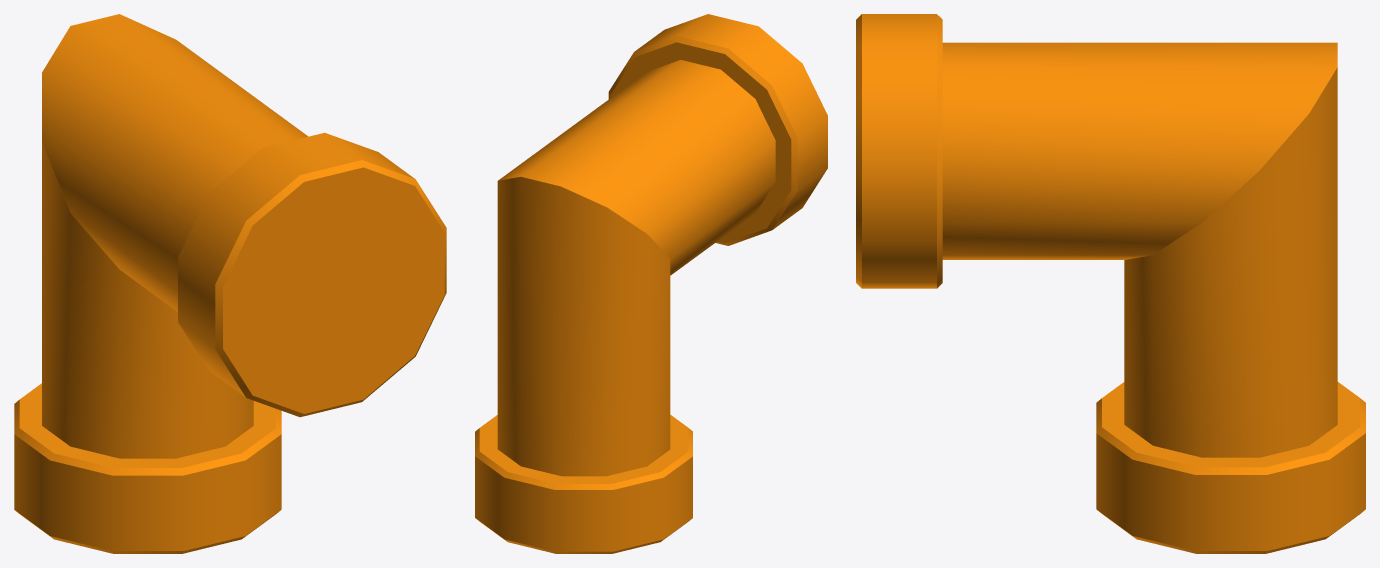
The model's file is Fix_1Axe_.fbx.
The picture shows the model from 3 angles, left to right: view 1: azimuth 30°, elevation 25°; view 2: azimuth 150°, elevation 25°; view 3: azimuth 270°, elevation 25°; orthographic projection. The views are drawn at different scales.
Parts seen in each view (by area): view 1: Fix_1Axe_; view 2: Fix_1Axe_; view 3: Fix_1Axe_.
Part boxes in pixels (x1,y1,x2,y2): Fix_1Axe_: (14,14,446,553); Fix_1Axe_: (475,14,827,553); Fix_1Axe_: (856,14,1365,553).
Bounding box in the file's own units: 0.5271 × 0.9971 × 1.01.
